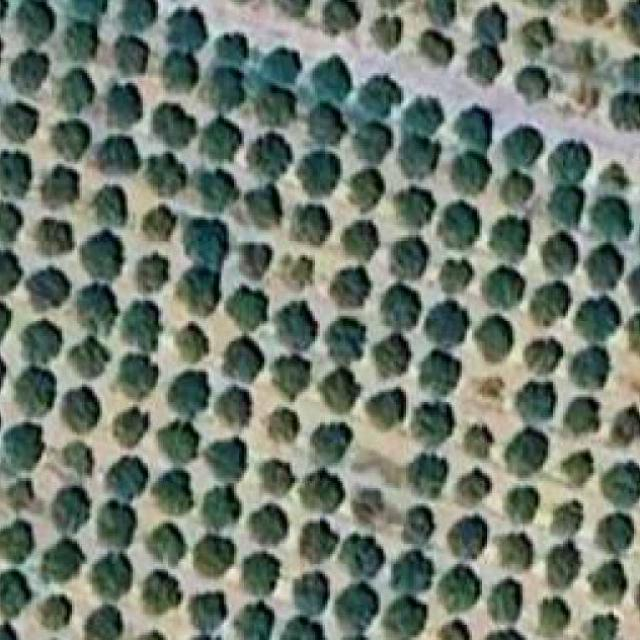Tree: (160, 7, 206, 90), (332, 582, 383, 630), (294, 466, 345, 513), (175, 265, 221, 317), (324, 265, 373, 313), (402, 453, 452, 499), (321, 316, 369, 363), (78, 230, 123, 280), (182, 220, 226, 271), (245, 132, 295, 176), (504, 427, 548, 476), (575, 296, 621, 342), (435, 564, 479, 612), (266, 351, 313, 395), (411, 401, 459, 444), (383, 597, 431, 640), (206, 435, 249, 483), (13, 367, 54, 417), (77, 284, 117, 335), (587, 196, 631, 242), (151, 103, 195, 149), (271, 304, 314, 351), (304, 103, 352, 145), (356, 76, 401, 120), (318, 370, 363, 414), (24, 268, 69, 312), (416, 350, 462, 393), (307, 422, 353, 465), (294, 152, 340, 195), (297, 519, 340, 565), (437, 203, 479, 250), (95, 501, 135, 550), (121, 301, 160, 351), (209, 385, 254, 428), (346, 480, 388, 526), (377, 289, 424, 330), (3, 422, 42, 471), (481, 265, 525, 308), (450, 106, 495, 148), (106, 458, 148, 503), (489, 215, 530, 261), (393, 552, 439, 593), (287, 203, 333, 244), (226, 286, 272, 327), (200, 115, 241, 161), (117, 353, 158, 399), (89, 554, 130, 600), (584, 243, 624, 290), (166, 372, 206, 419), (399, 137, 442, 180), (222, 339, 264, 383), (240, 549, 282, 593), (500, 124, 545, 165), (424, 301, 469, 342), (199, 488, 244, 529), (152, 470, 193, 515), (478, 313, 517, 360), (60, 387, 99, 434), (450, 154, 492, 197), (568, 346, 609, 390), (21, 321, 62, 365), (447, 516, 487, 561), (14, 0, 54, 45), (197, 169, 239, 211), (255, 86, 298, 127), (392, 187, 433, 230), (309, 53, 350, 96), (231, 599, 274, 640), (157, 422, 198, 465), (586, 562, 626, 606), (602, 462, 640, 508), (53, 486, 89, 534), (549, 142, 590, 184), (342, 537, 383, 579), (43, 539, 84, 581), (9, 51, 49, 94), (145, 154, 185, 197), (141, 572, 180, 616), (594, 513, 634, 555), (69, 336, 109, 378), (370, 336, 413, 375), (460, 46, 504, 84), (244, 184, 282, 228), (487, 579, 523, 625), (352, 122, 391, 164), (248, 503, 290, 542), (146, 524, 185, 566), (193, 534, 232, 576), (530, 284, 568, 327), (262, 405, 300, 448), (209, 66, 244, 112), (340, 220, 379, 261), (367, 387, 408, 426), (1, 103, 40, 144), (546, 542, 580, 589), (391, 238, 429, 280), (347, 169, 383, 213), (107, 83, 143, 127), (542, 233, 578, 276), (291, 572, 327, 615), (0, 521, 35, 565), (545, 187, 585, 225), (52, 122, 90, 162), (189, 591, 226, 632), (519, 17, 555, 59), (44, 167, 79, 210), (0, 569, 32, 616), (517, 382, 553, 423), (238, 238, 274, 279), (99, 137, 140, 173), (92, 187, 128, 228), (112, 407, 148, 448), (0, 151, 32, 197), (278, 255, 315, 294), (433, 257, 474, 292), (402, 96, 444, 130), (258, 48, 301, 81), (61, 68, 94, 111), (396, 503, 433, 541), (175, 323, 209, 364), (64, 20, 97, 62), (456, 468, 492, 506), (497, 172, 535, 208), (472, 2, 507, 41), (524, 340, 563, 375), (113, 37, 148, 76), (563, 397, 599, 434), (34, 223, 74, 256), (418, 29, 454, 65), (87, 604, 123, 640), (498, 534, 533, 571), (539, 596, 570, 637), (515, 68, 550, 104), (140, 205, 175, 240), (137, 253, 168, 292), (610, 90, 640, 129), (323, 2, 358, 35), (61, 442, 94, 477), (255, 461, 292, 492), (612, 406, 640, 446), (562, 451, 593, 487), (371, 15, 401, 52), (505, 488, 535, 525), (37, 597, 69, 631), (215, 32, 246, 66), (122, 0, 156, 31), (550, 502, 580, 537), (278, 619, 326, 640), (0, 250, 22, 295), (463, 425, 492, 459), (0, 202, 22, 243), (6, 478, 35, 509), (597, 162, 629, 190), (622, 0, 640, 48), (70, 0, 108, 20), (586, 614, 614, 640), (425, 0, 454, 25), (625, 315, 640, 359), (439, 619, 469, 640), (580, 0, 606, 23), (275, 0, 311, 16), (623, 56, 640, 89), (627, 263, 640, 306), (481, 630, 525, 640), (0, 304, 11, 344), (134, 630, 168, 640)
